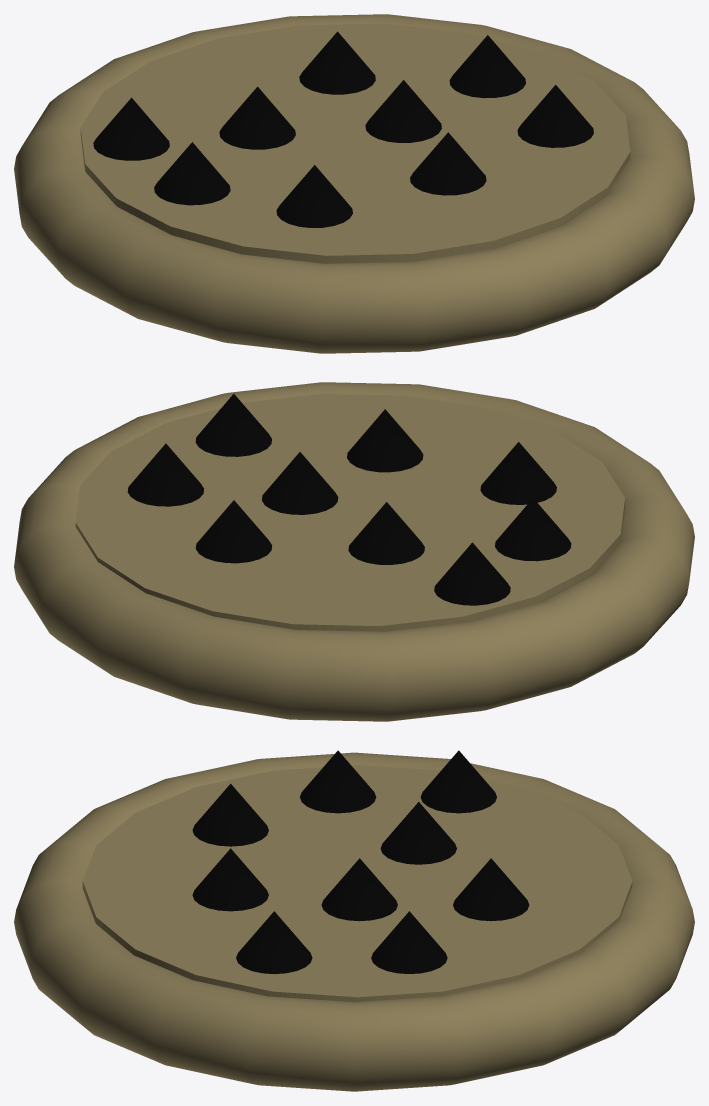
File: COOKIE.fbx
The picture shows the model from 3 angles, top to bottom: view 1: azimuth 30°, elevation 25°; view 2: azimuth 150°, elevation 25°; view 3: azimuth 270°, elevation 25°; orthographic projection.
Visible parts, largest first — view 1: pCylinder3; view 2: pCylinder3; view 3: pCylinder3.
Boxes of the visible parts, <box> form: pCylinder3: <box>14,14,694,353</box>; pCylinder3: <box>14,382,694,721</box>; pCylinder3: <box>14,750,694,1091</box>.
Bounding box in the file's own units: 16.61 × 3.5 × 16.61.
